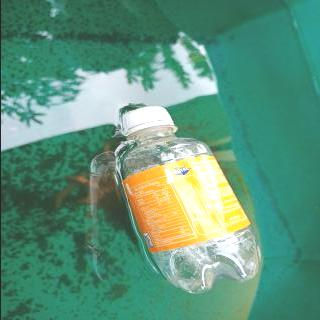bottle: (108, 105, 264, 296)
